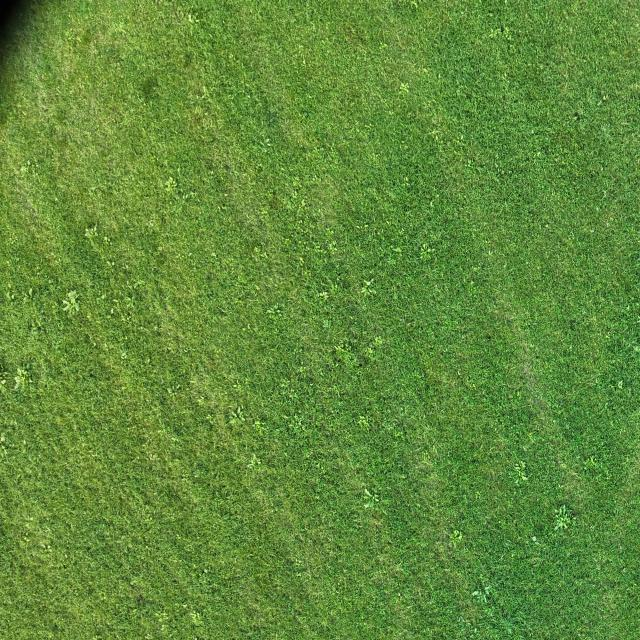rumex: (0, 367, 42, 474), (305, 230, 344, 274), (108, 281, 143, 328), (332, 336, 365, 374), (16, 514, 49, 551), (157, 174, 180, 227), (62, 19, 98, 52), (10, 358, 37, 395), (84, 222, 114, 254), (470, 582, 496, 608), (26, 304, 48, 334), (552, 504, 575, 532), (165, 374, 187, 402), (18, 158, 40, 182), (184, 10, 202, 37), (60, 292, 81, 314), (264, 302, 285, 322), (280, 193, 299, 214), (460, 375, 479, 395), (358, 277, 376, 297), (429, 127, 446, 147), (152, 609, 169, 629), (246, 452, 262, 471), (448, 528, 464, 547), (0, 433, 10, 463), (156, 204, 169, 227), (164, 177, 178, 193), (357, 415, 371, 430), (325, 240, 338, 256), (252, 419, 265, 434), (182, 50, 194, 66), (292, 415, 304, 429), (130, 280, 144, 292), (172, 8, 182, 24), (516, 460, 528, 473), (586, 455, 598, 468), (200, 85, 210, 100), (420, 242, 432, 254), (333, 344, 345, 355), (318, 290, 329, 302), (290, 178, 301, 190), (399, 82, 410, 94), (12, 378, 22, 391), (84, 229, 94, 241), (373, 336, 383, 348), (268, 189, 278, 201), (190, 612, 200, 624), (195, 396, 205, 407), (67, 289, 78, 299), (452, 528, 462, 539), (363, 499, 374, 509), (218, 306, 228, 317), (558, 460, 569, 470), (7, 290, 16, 302), (62, 300, 71, 312), (503, 27, 511, 40), (422, 450, 430, 463), (243, 324, 253, 334), (7, 236, 17, 246), (370, 493, 380, 503), (505, 624, 514, 635), (235, 405, 243, 417), (326, 228, 335, 238), (260, 208, 269, 218), (206, 414, 215, 424), (471, 589, 481, 598), (519, 474, 530, 482), (395, 431, 404, 440), (253, 246, 261, 256), (284, 238, 292, 248), (360, 286, 370, 294), (144, 514, 152, 524), (20, 164, 28, 174), (154, 611, 164, 619), (484, 585, 492, 595), (554, 522, 562, 532), (207, 291, 217, 299), (192, 16, 200, 25), (402, 176, 410, 185), (363, 279, 372, 287), (330, 362, 339, 370), (380, 42, 388, 51), (320, 466, 327, 476), (602, 120, 607, 134), (455, 136, 463, 144), (394, 246, 402, 254), (314, 243, 322, 251), (364, 123, 372, 131), (410, 1, 418, 9), (496, 166, 503, 175), (559, 505, 566, 514), (371, 150, 377, 160), (432, 444, 438, 454), (501, 72, 507, 82), (437, 72, 443, 82), (151, 156, 158, 164), (233, 383, 240, 391), (273, 303, 280, 311), (500, 25, 506, 34), (475, 492, 481, 501), (618, 380, 624, 389), (503, 200, 509, 209), (531, 534, 537, 543), (569, 511, 575, 520), (28, 287, 33, 297), (188, 14, 193, 24), (635, 344, 640, 354), (298, 256, 304, 264), (120, 351, 126, 359), (239, 415, 245, 423), (386, 220, 392, 228), (208, 169, 214, 177), (602, 94, 608, 102), (0, 435, 6, 443), (602, 190, 608, 198), (574, 111, 580, 119), (24, 537, 30, 544), (182, 603, 188, 610), (0, 379, 6, 386), (302, 58, 306, 68), (487, 249, 492, 257), (266, 140, 272, 146), (467, 160, 472, 167), (87, 313, 92, 320), (530, 128, 535, 135), (26, 160, 31, 166), (110, 308, 114, 315), (229, 54, 233, 61), (195, 94, 199, 100)
